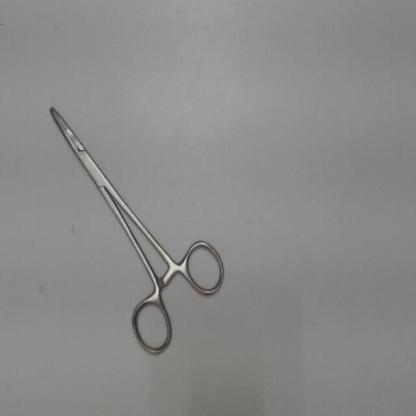Mayo Needle Holder: (39, 94, 229, 366)
